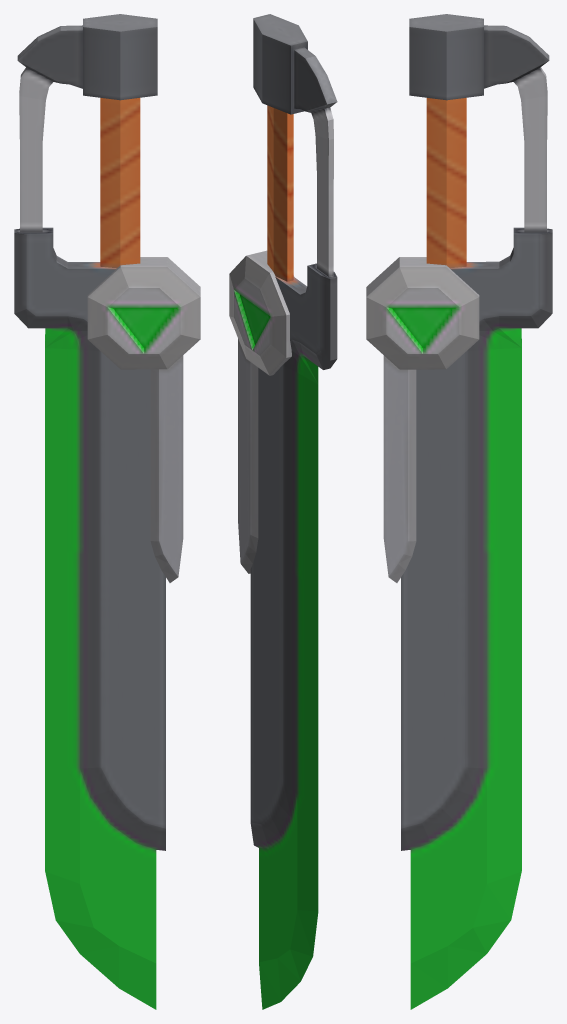
Rendered from jian_01.FBX.
The picture shows the model from 3 angles, left to right: view 1: azimuth 90°, elevation 25°; view 2: azimuth 210°, elevation 25°; view 3: azimuth 270°, elevation 25°; orthographic projection.
Visible parts, largest first — view 1: nvzhujue_weapon; view 2: nvzhujue_weapon; view 3: nvzhujue_weapon.
Boxes of the visible parts, x1,y1,x2,y2 form: nvzhujue_weapon: (14,14,200,1009); nvzhujue_weapon: (229,14,337,1009); nvzhujue_weapon: (366,14,552,1009).
Bounding box in the file's own units: 0.0576 × 1.5 × 0.2557.
